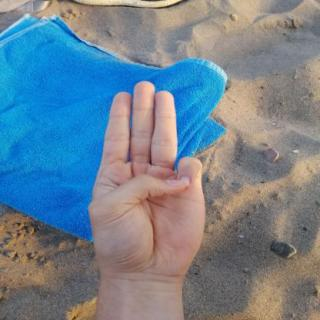THA: (76, 74, 218, 284)
